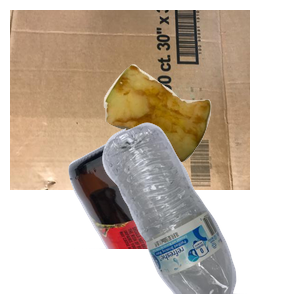cardboard: (10, 10, 250, 190)
glass: (66, 120, 300, 300)
plastic: (100, 120, 300, 300)
trash: (101, 62, 300, 217)
